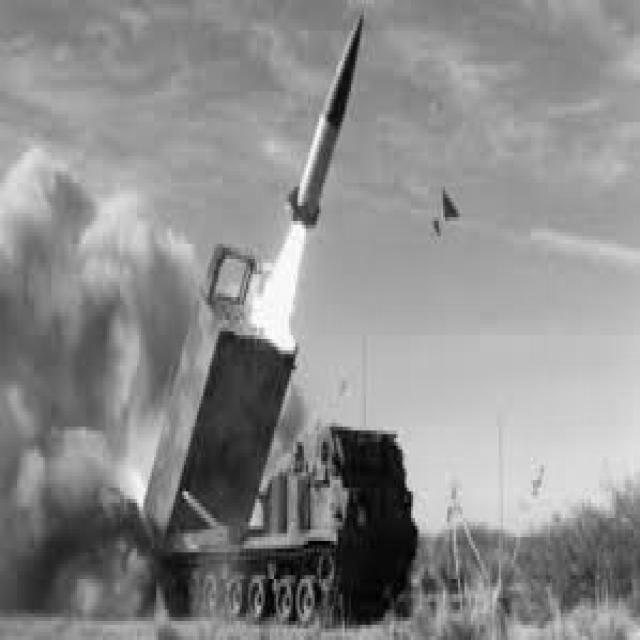Missile: (285, 2, 372, 245)
